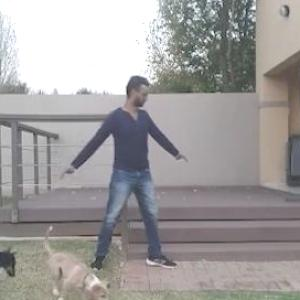land: (54, 75, 190, 271)
